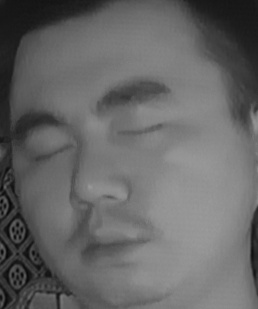blink: (116, 111, 170, 146), (23, 134, 74, 170)
mouth: (66, 218, 156, 275)
